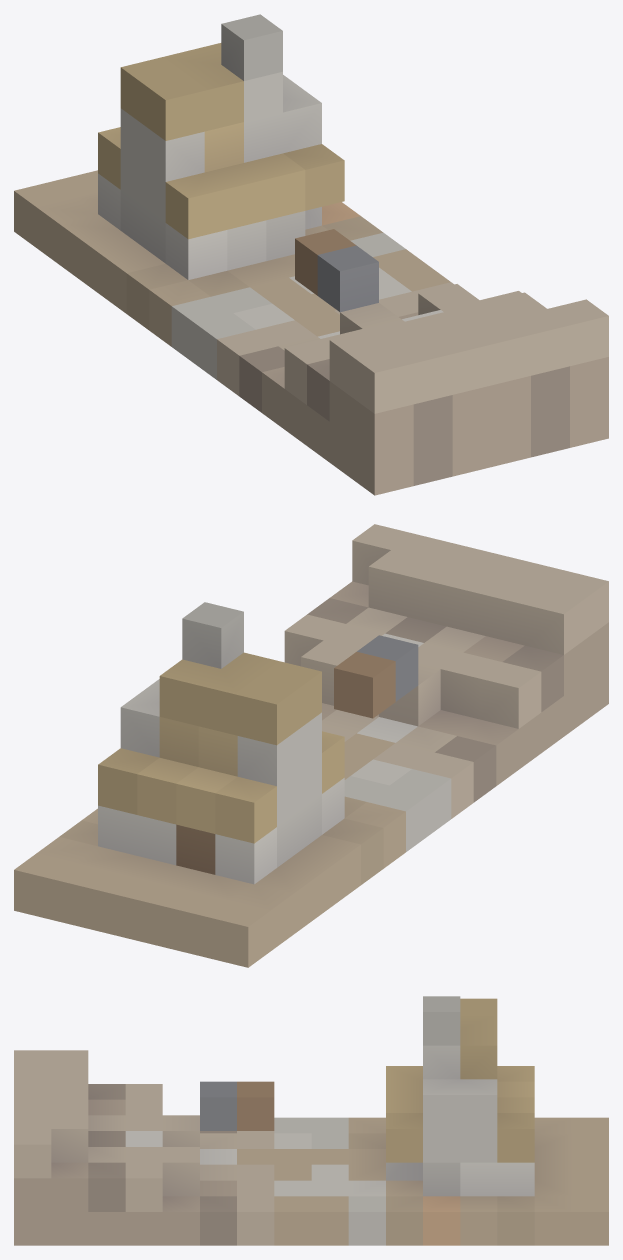
File: quarry.lite.glb
The picture shows the model from 3 angles, top to bottom: view 1: azimuth 30°, elevation 25°; view 2: azimuth 150°, elevation 25°; view 3: azimuth 270°, elevation 25°; orthographic projection. The views are drawn at different scales.
Parts seen in each view (by area): view 1: quarry; view 2: quarry; view 3: quarry.
Boxes of the visible parts, x1,y1,x2,y2 form: quarry: (14,14,608,495); quarry: (14,524,608,967); quarry: (14,996,608,1245).
Size of the model in its own units: 3 by 3 by 8.
